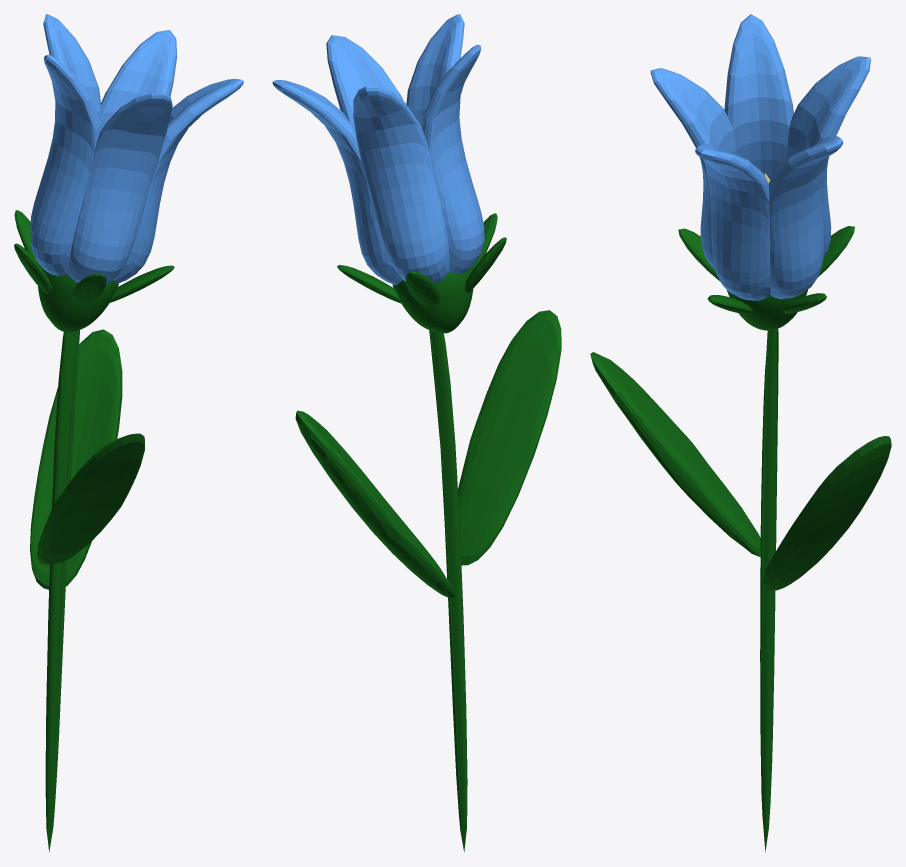
The model's file is Sadness_ydc.glb.
The picture shows the model from 3 angles, left to right: view 1: azimuth 30°, elevation 25°; view 2: azimuth 150°, elevation 25°; view 3: azimuth 270°, elevation 25°; orthographic projection. The views are drawn at different scales.
Visible parts, largest first — view 1: Cone; view 2: Cone; view 3: Cone.
Boxes of the visible parts, <box> form: Cone: <box>14,14,243,851</box>; Cone: <box>272,14,561,851</box>; Cone: <box>590,14,891,852</box>.
Bounding box in the file's own units: 5.45 × 20.74 × 6.79.
